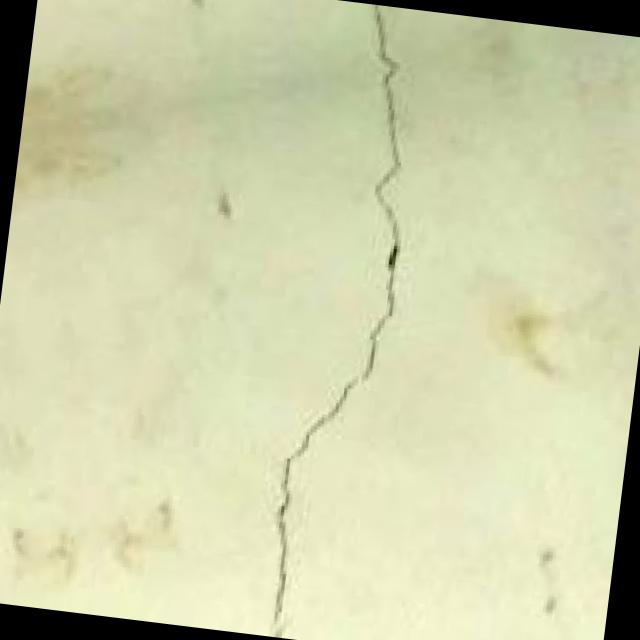crack: (195, 0, 470, 640)
